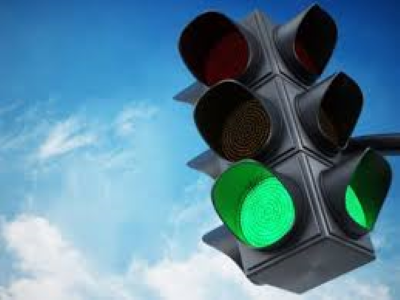trafficlight_green: (182, 24, 305, 246), (304, 11, 392, 236)
